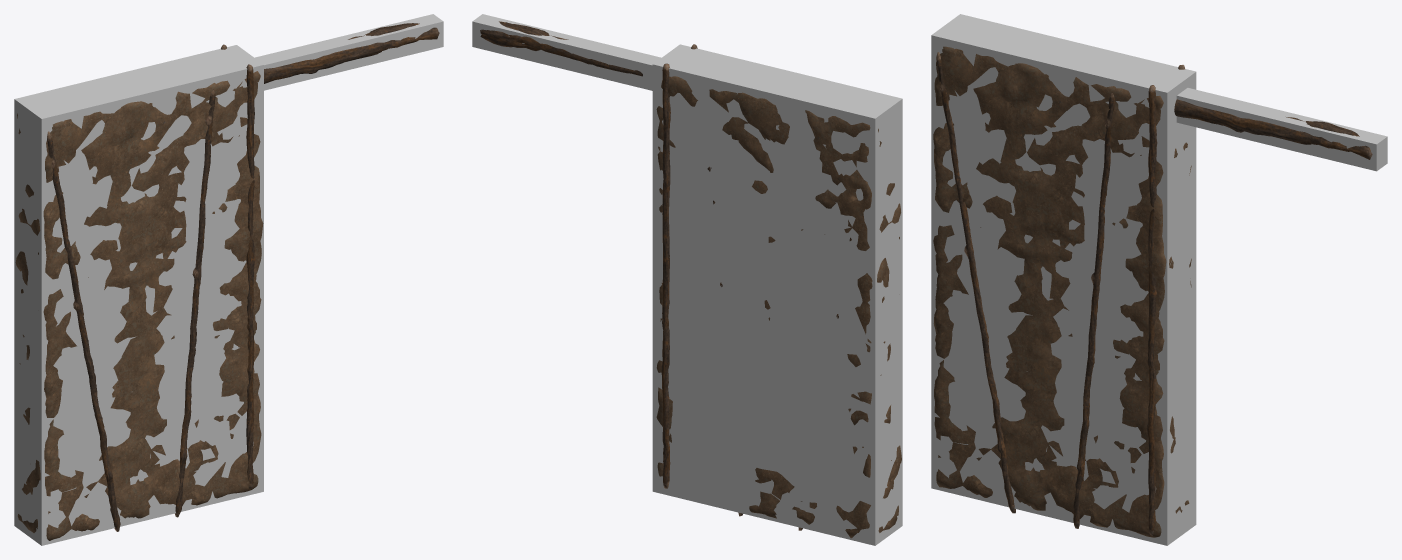
The model's file is SM_mud_wall_mod_04.fbx.
3 views of the same model, side by side, from view 1: azimuth 30°, elevation 25°; view 2: azimuth 150°, elevation 25°; view 3: azimuth 330°, elevation 25° (orthographic). The views are drawn at different scales.
Parts seen in each view (by area): view 1: SM_mud_wall_mod_04_ConvexHulls, SM_mud_wall_mod_04; view 2: SM_mud_wall_mod_04_ConvexHulls, SM_mud_wall_mod_04; view 3: SM_mud_wall_mod_04_ConvexHulls, SM_mud_wall_mod_04.
Part boxes in pixels (left/top/right/bottom): SM_mud_wall_mod_04_ConvexHulls: left=14, top=14, right=443, bottom=545; SM_mud_wall_mod_04: left=15, top=23, right=439, bottom=540; SM_mud_wall_mod_04_ConvexHulls: left=472, top=14, right=902, bottom=545; SM_mud_wall_mod_04: left=480, top=21, right=901, bottom=538; SM_mud_wall_mod_04_ConvexHulls: left=931, top=14, right=1387, bottom=545; SM_mud_wall_mod_04: left=933, top=46, right=1372, bottom=537.
Size of the model in its own units: 255 by 34.99 by 257.
3 materials, 2 textured.
